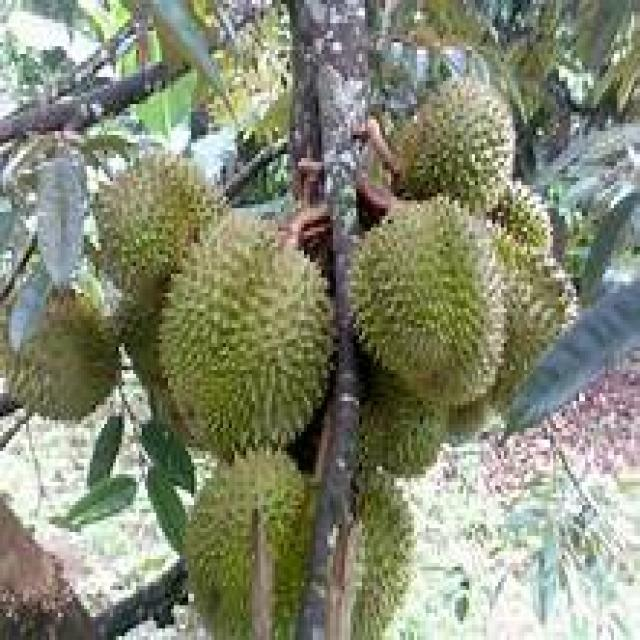immature: (156, 213, 338, 461), (351, 197, 511, 405), (180, 443, 313, 639), (93, 152, 231, 308), (395, 77, 515, 218)
